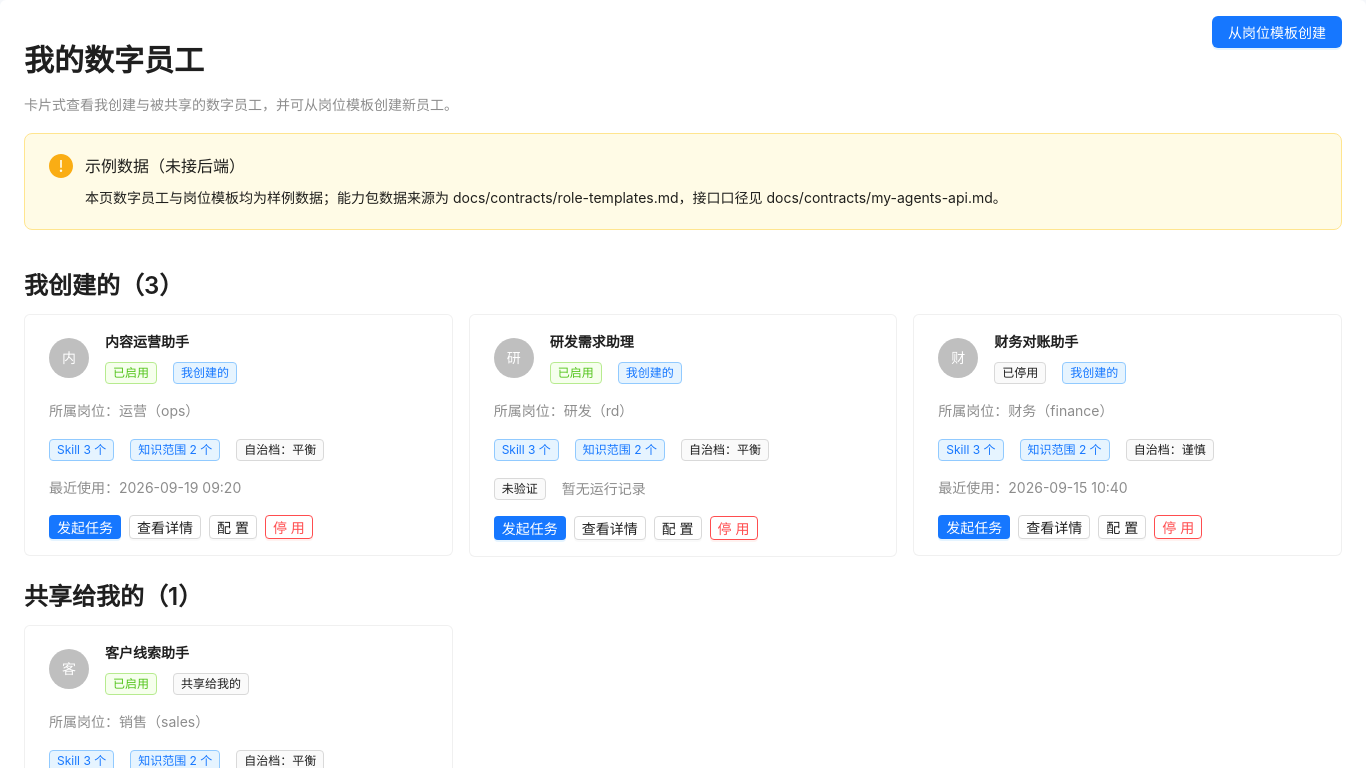
it: MyAgentsPage › 创建流程：选模板 → 预览 → 提交后回调收到名称与模板键
Click the button "从岗位模板创建".
click(1277, 32)  # box 1212,16 -> 1342,48
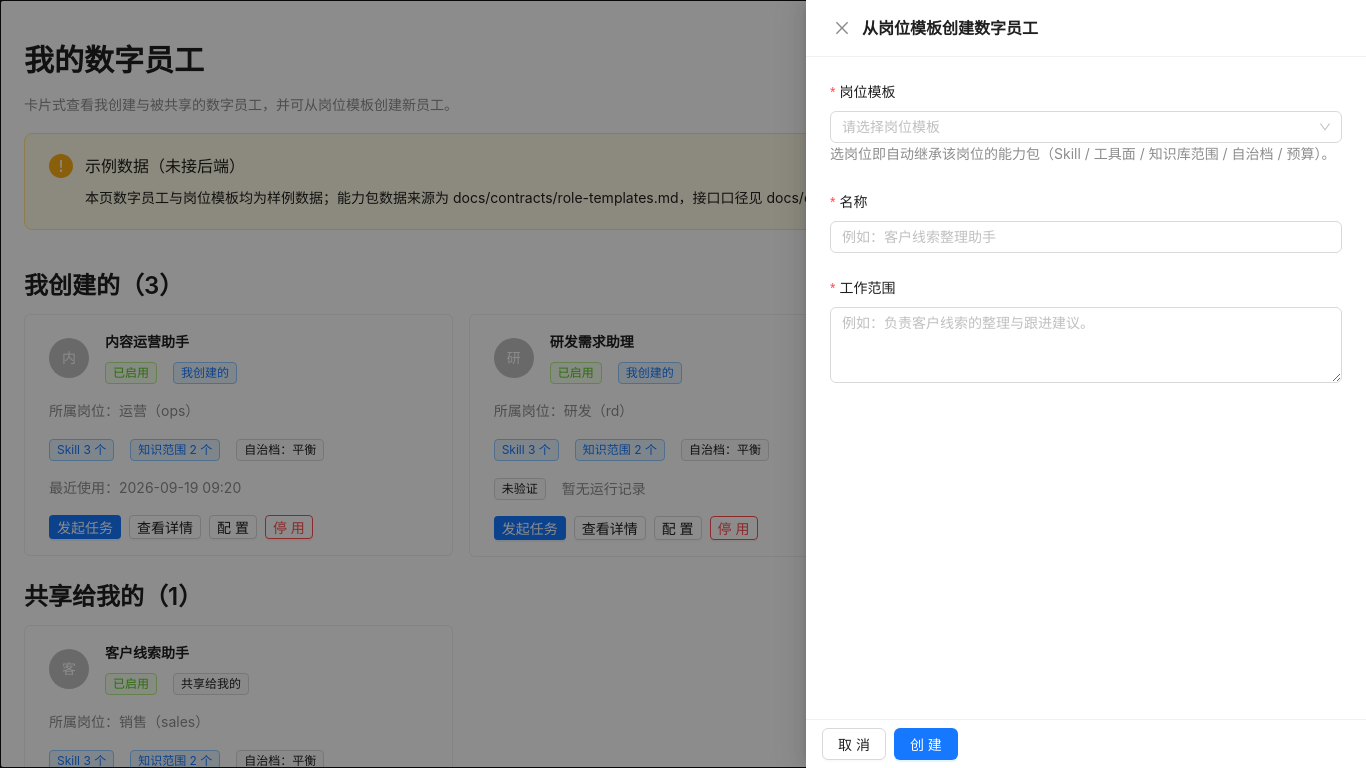
Check: the text "从岗位模板创建数字员工" is shown, box 862,18 -> 1038,38
Click the dropdown labelled "岗位模板".
click(870, 92)  # box 830,81 -> 910,103
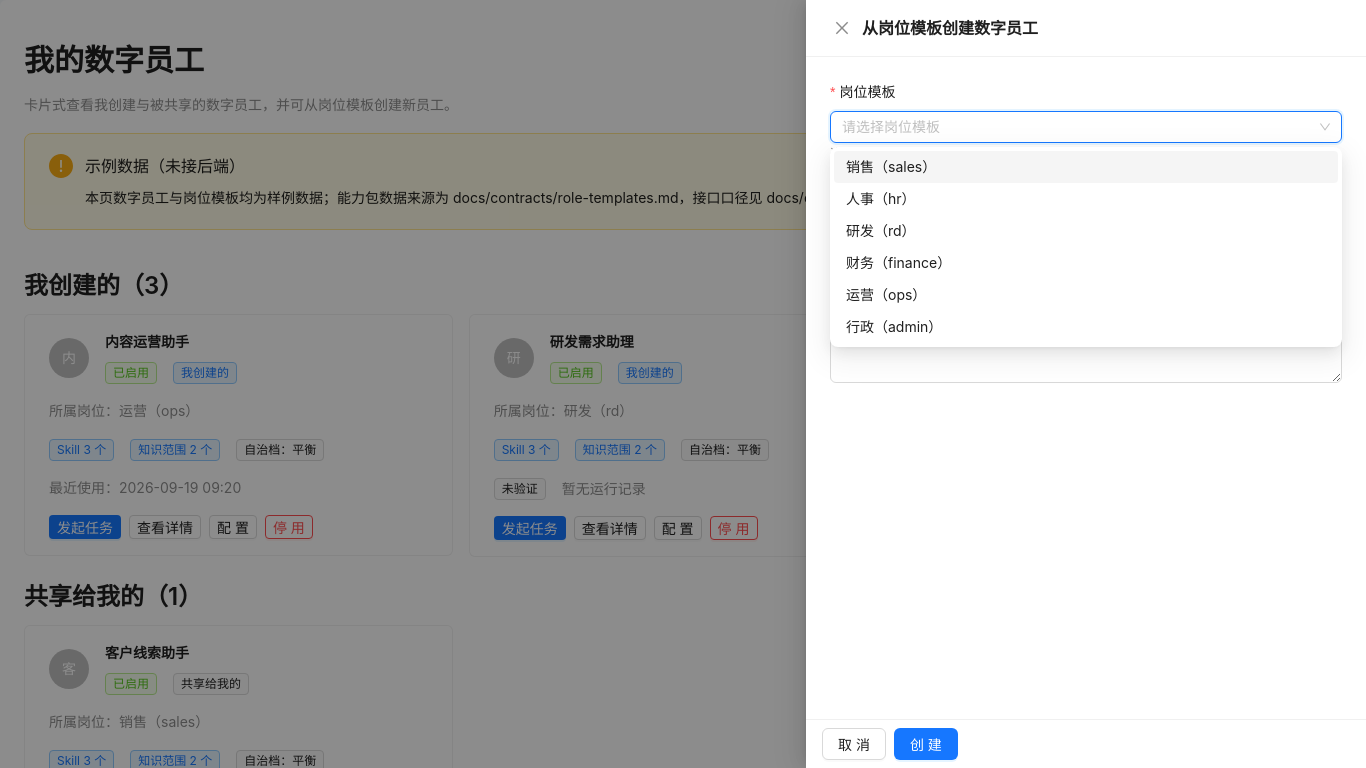
Click the element titled "研发（rd）".
click(881, 230)  # box 846,222 -> 916,239
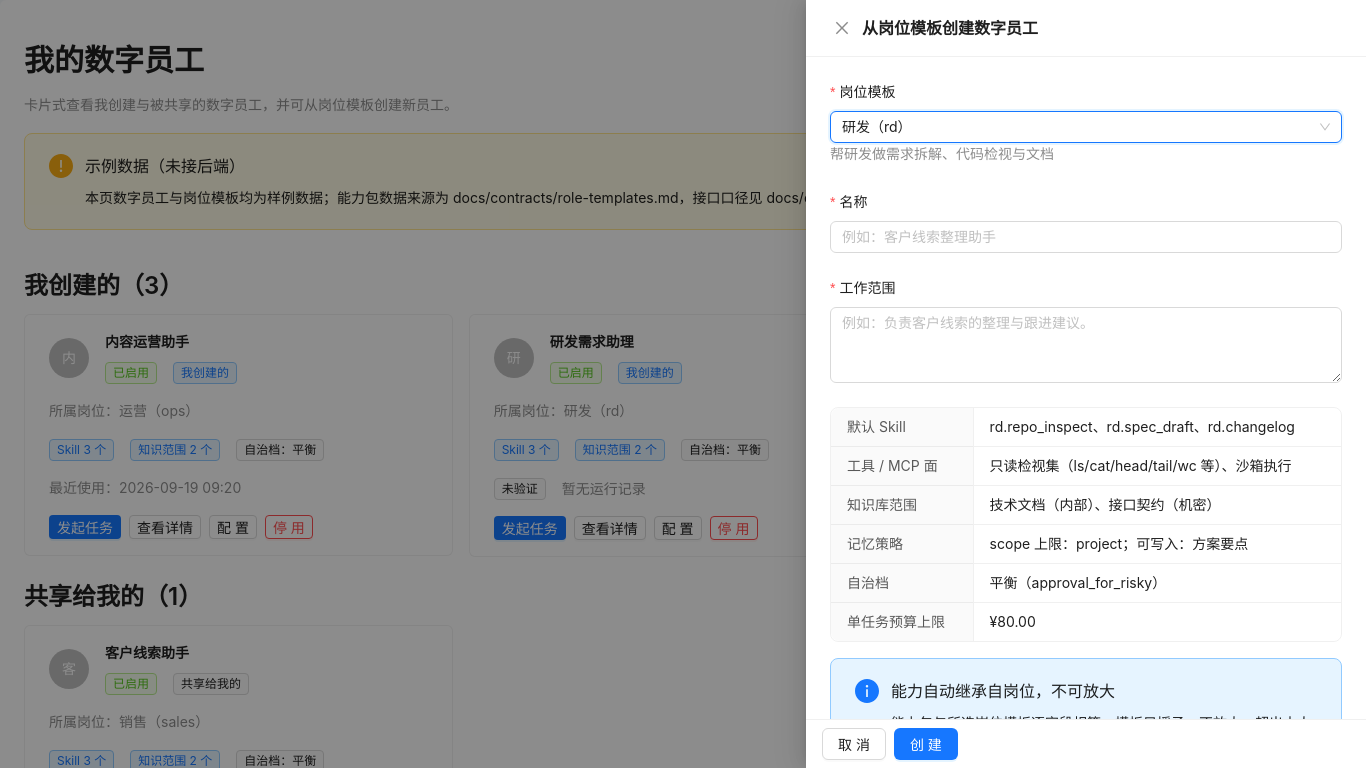
Check: the text "能力自动继承自岗位，不可放大" is shown, box 891,681 -> 1115,701
Check: the text "默认 Skill" is shown, box 847,418 -> 906,435
Type "研发小助手" into the field labelled "名称".
click(1086, 237); type("研发小助手")  # box 830,221 -> 1342,253
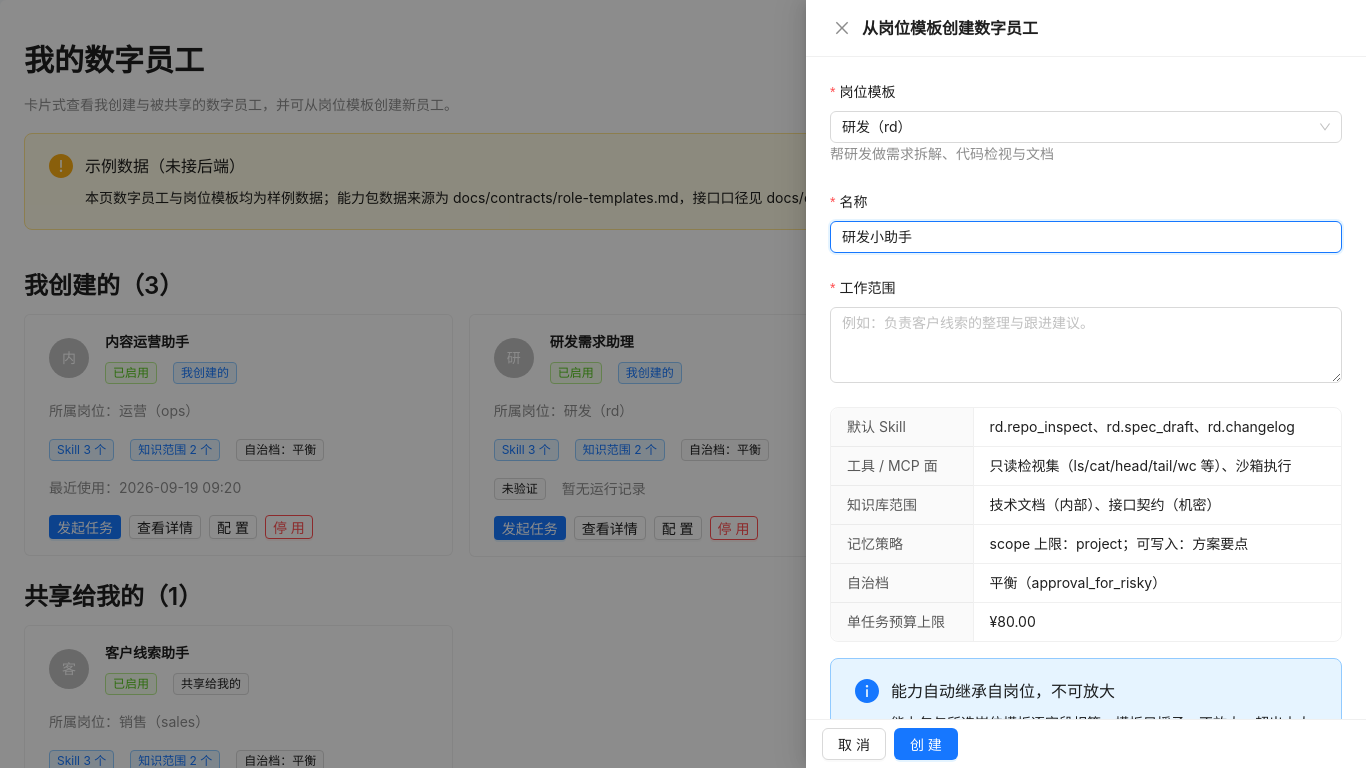
Type "负责需求拆解。" into the text box labelled "工作范围".
click(1086, 345); type("负责需求拆解。")  # box 830,307 -> 1342,383
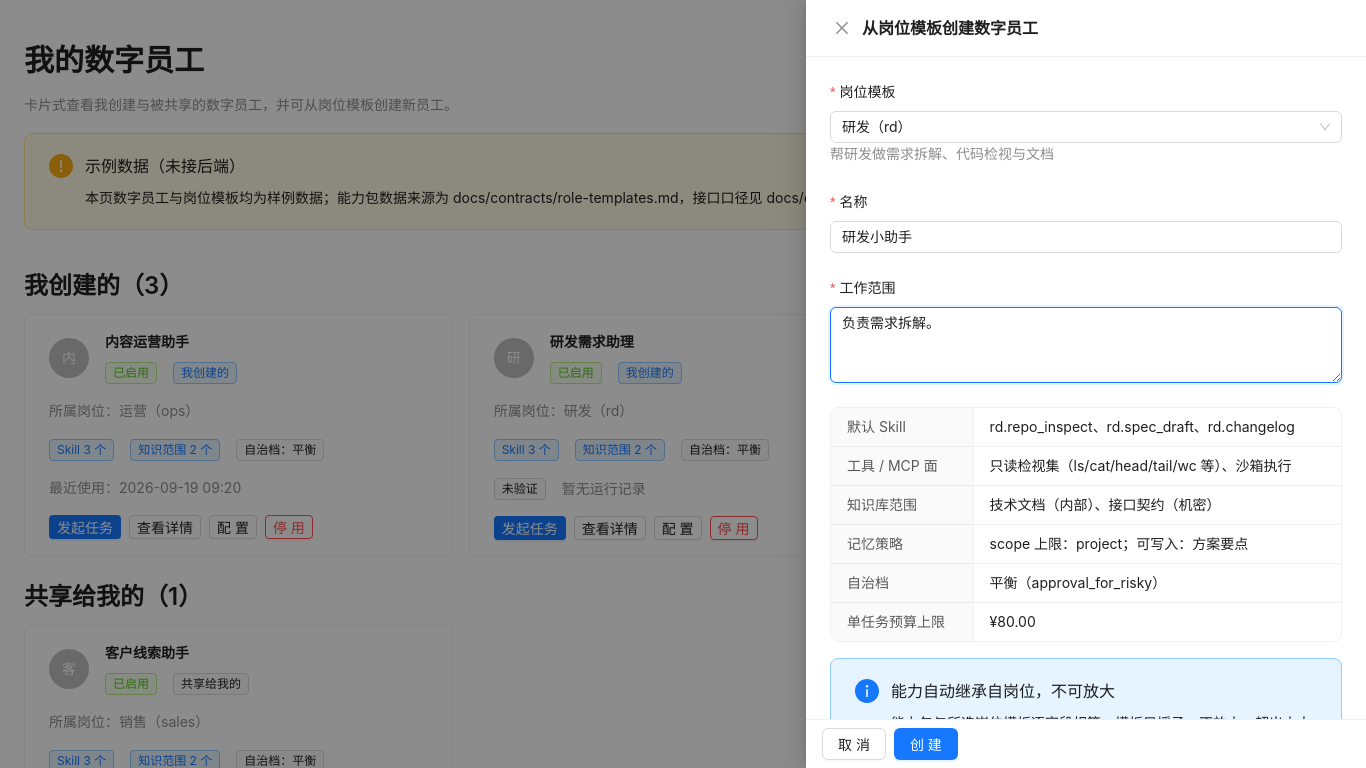
精确定位抽屉里的提交按钮（页头"从岗位模板创建"也含"创建"二字）
Click the button "创 建".
click(926, 744)  # box 894,728 -> 958,760
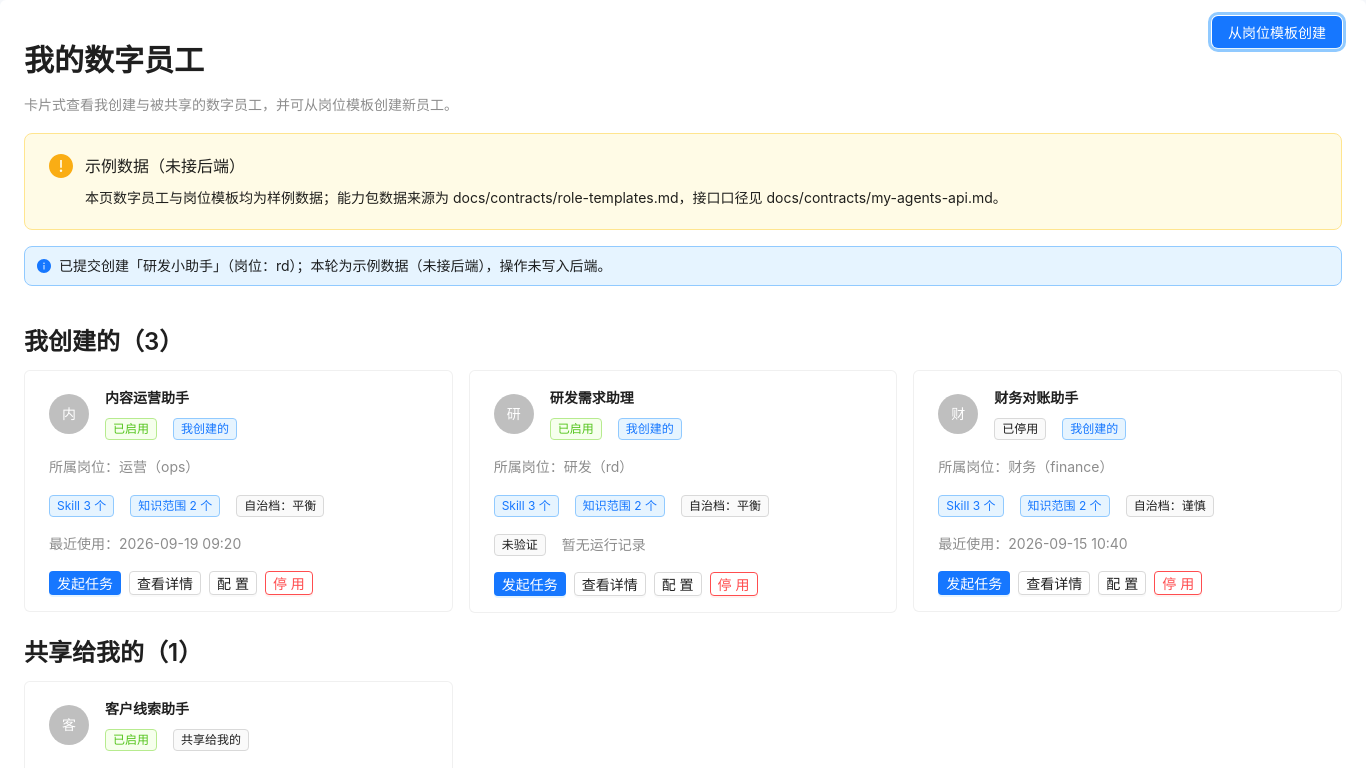
Check: the text "已提交创建「研发小助手」（岗位：rd）" is shown, box 59,257 -> 612,274
